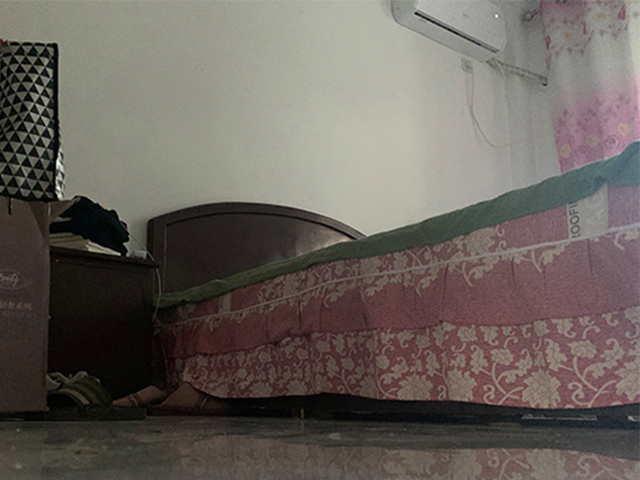bed: (146, 139, 640, 421)
slippers: (149, 381, 230, 419), (46, 378, 127, 416)
